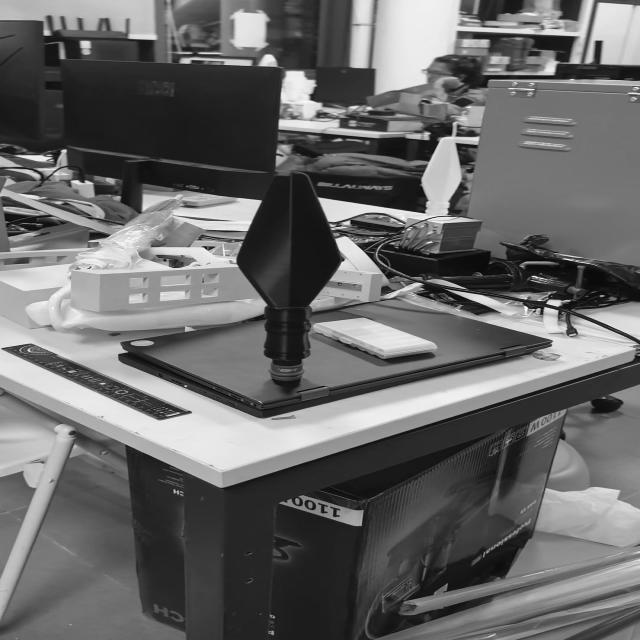base: (265, 362, 312, 389)
